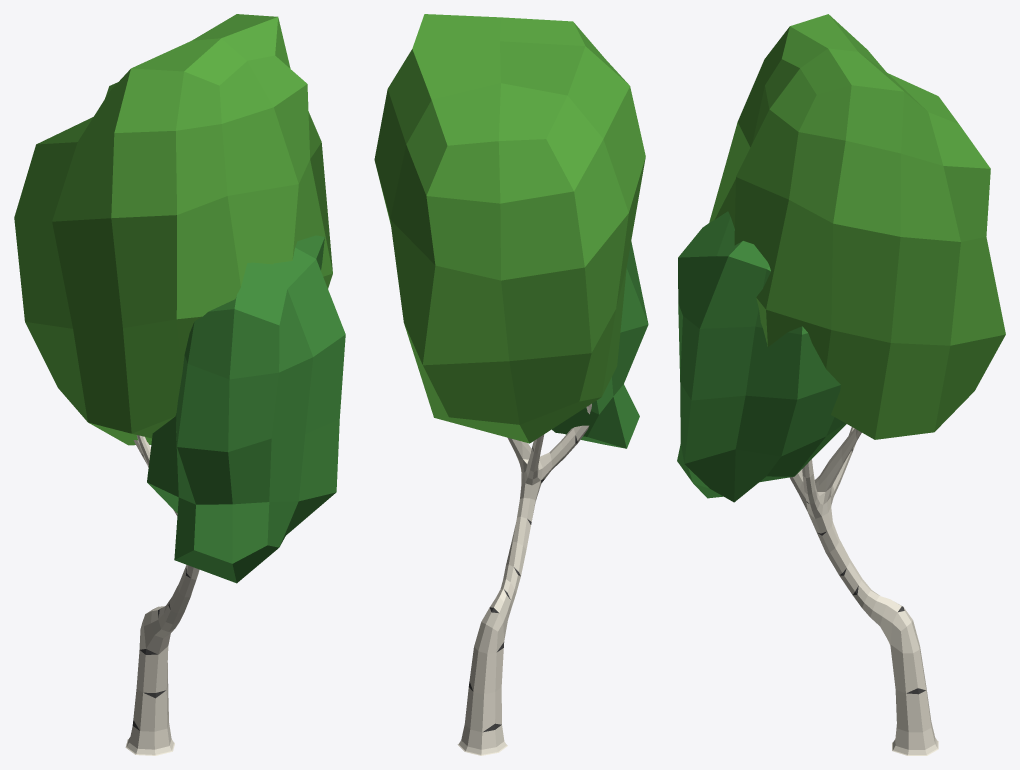
Rendered from birch.glb.
3 views of the same model, side by side, from view 1: azimuth 30°, elevation 25°; view 2: azimuth 150°, elevation 25°; view 3: azimuth 270°, elevation 25° (orthographic). The views are drawn at different scales.
Visible parts, largest first — view 1: BirchTree_2; view 2: BirchTree_2; view 3: BirchTree_2.
Boxes of the visible parts, <box> form: BirchTree_2: <box>14,14,345,755</box>; BirchTree_2: <box>374,14,648,755</box>; BirchTree_2: <box>677,14,1005,755</box>.
Bounding box in the file's own units: 2.94 × 8.06 × 3.39.
